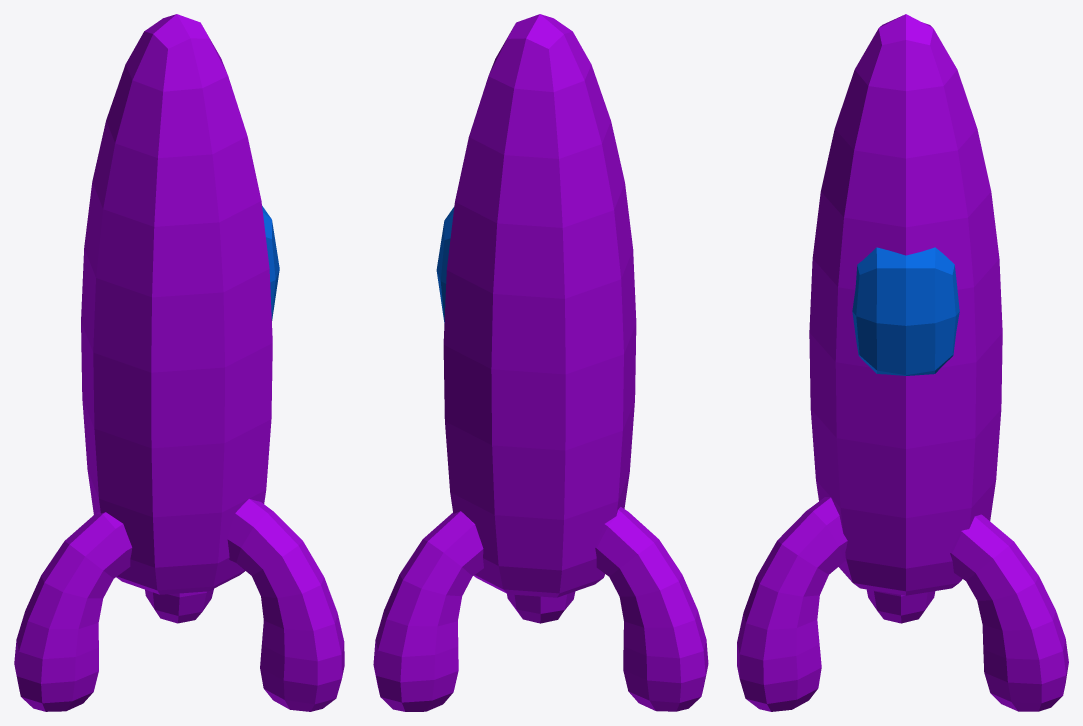
File: Rocket.fbx
3 renders of one model, left to right at view 1: azimuth 30°, elevation 25°; view 2: azimuth 150°, elevation 25°; view 3: azimuth 270°, elevation 25°, orthographic.
Visible parts, largest first — view 1: Rocket_Glass; view 2: Rocket_Glass; view 3: Rocket_Glass.
Part boxes in pixels (bbox=[...]): Rocket_Glass: bbox=[14, 14, 344, 711]; Rocket_Glass: bbox=[373, 14, 708, 711]; Rocket_Glass: bbox=[737, 14, 1068, 711].
Size of the model in its own units: 340 by 828 by 375.
